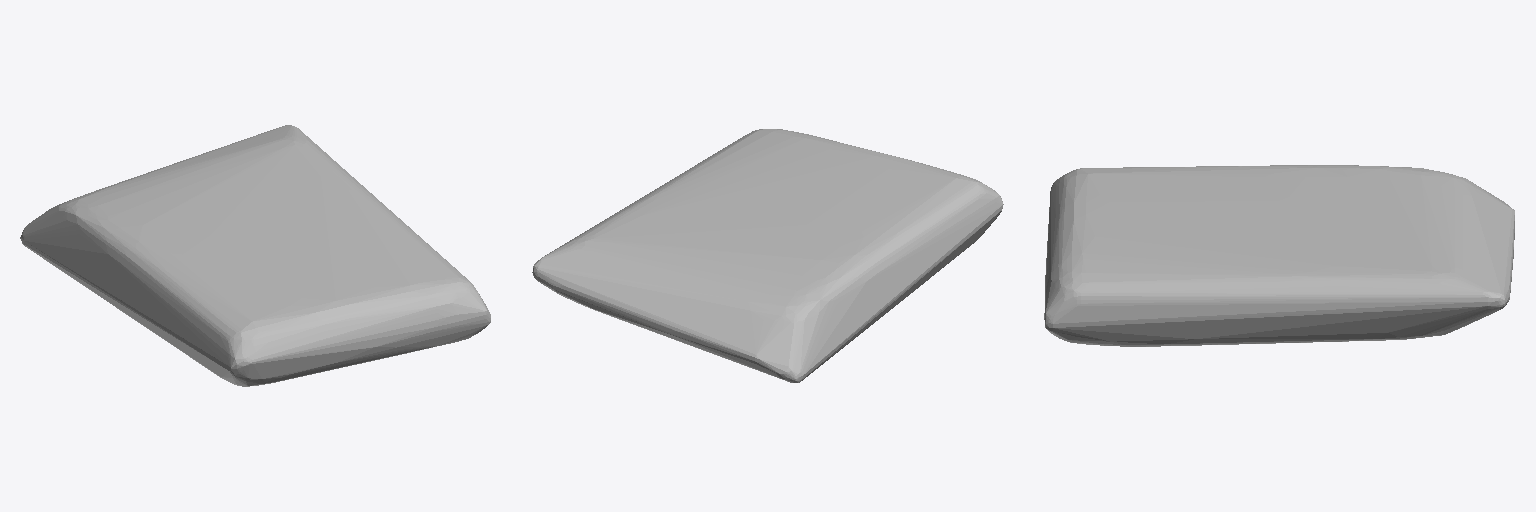
robot.urdf — root:
<robot name="root">
  <link name="link_coacd_convex_piece_0">
    <inertial>
      <origin xyz="0 0 0" rpy="0 0 0"/>
      <inertia ixx="7.06E-02" ixy="-2.78E-04" ixz="-8.00E-04" iyy="3.60E-02" iyz="-6.05E-04" izz="1.03E-01"/>
    </inertial>
    <visual>
      <origin xyz="0 0 0" rpy="0 0 0"/>
      <geometry>
        <mesh filename="coacd_convex_piece_0.obj" scale="1.0000E+00 1.0000E+00 1.0000E+00"/>
      </geometry>
      <material name="">
        <color rgba="7.50E-01 7.50E-01 7.50E-01 1"/>
      </material>
    </visual>
    <collision>
      <origin xyz="0 0 0" rpy="0 0 0"/>
      <geometry>
        <mesh filename="coacd_convex_piece_0.obj" scale="1.0000E+00 1.0000E+00 1.0000E+00"/>
      </geometry>
    </collision>
  </link>
</robot>

--- What the picture shows (computed from the rendered views, not written in the file) ---
3 views of the same robot in one strip: view 1: azimuth 30°, elevation 25°; view 2: azimuth 150°, elevation 25°; view 3: azimuth 270°, elevation 25° (orthographic).
Model root with 1 links and 0 joints (none), rooted at link_coacd_convex_piece_0, posed all joints at 0.
Visible links, largest first — view 1: link_coacd_convex_piece_0; view 2: link_coacd_convex_piece_0; view 3: link_coacd_convex_piece_0.
Boxes of the visible links, x1,y1,x2,y2 form: link_coacd_convex_piece_0: (20,125,490,386); link_coacd_convex_piece_0: (532,129,1003,382); link_coacd_convex_piece_0: (1044,165,1514,346).
Bounding box of the posed robot: 1.17 × 1.65 × 0.2889 m (x, y, z).
1 mesh visuals loaded from 1 distinct referenced files (1 OBJ).